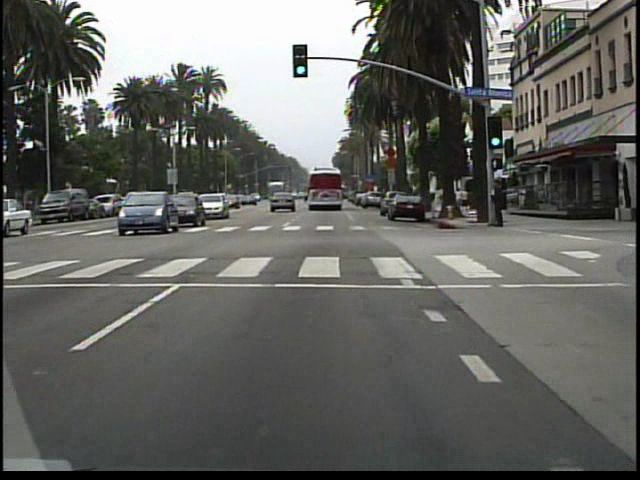person: (490, 177, 508, 231)
